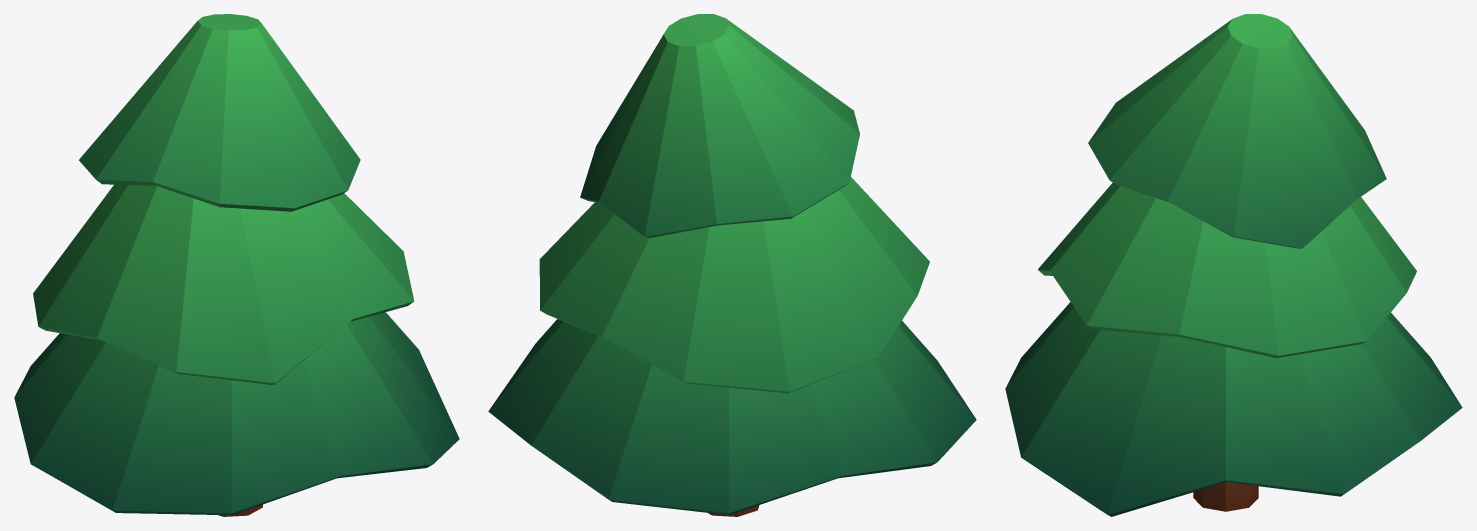
File: Pohon 2.fbx
3 views of the same model, side by side, from view 1: azimuth 30°, elevation 25°; view 2: azimuth 150°, elevation 25°; view 3: azimuth 270°, elevation 25° (orthographic). The views are drawn at different scales.
Parts seen in each view (by area): view 1: Pohon 2; view 2: Pohon 2; view 3: Pohon 2.
Boxes of the visible parts, bbox=[...] form: Pohon 2: bbox=[14, 14, 459, 516]; Pohon 2: bbox=[488, 14, 976, 516]; Pohon 2: bbox=[1005, 14, 1462, 516].
Bounding box in the file's own units: 2.35 × 2.72 × 2.35.
